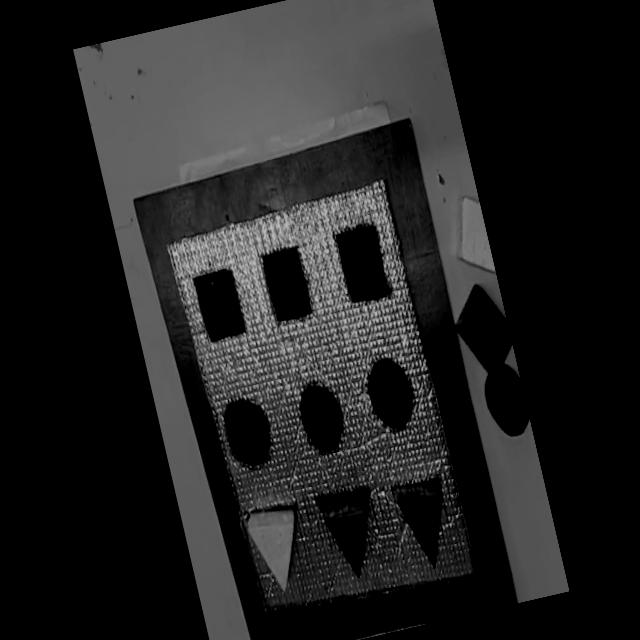bcircle: (478, 362, 533, 442)
btriangle: (388, 474, 459, 574)
mtcircle: (359, 350, 422, 436), (218, 390, 279, 472), (293, 376, 351, 456)
mtcube: (332, 221, 393, 307), (258, 242, 316, 326), (191, 265, 249, 344)
rcube: (446, 278, 520, 386)
rtriangle: (314, 484, 386, 583)
wb: (162, 177, 479, 632)
ycube: (444, 190, 497, 282)
ytriangle: (241, 497, 316, 599)
